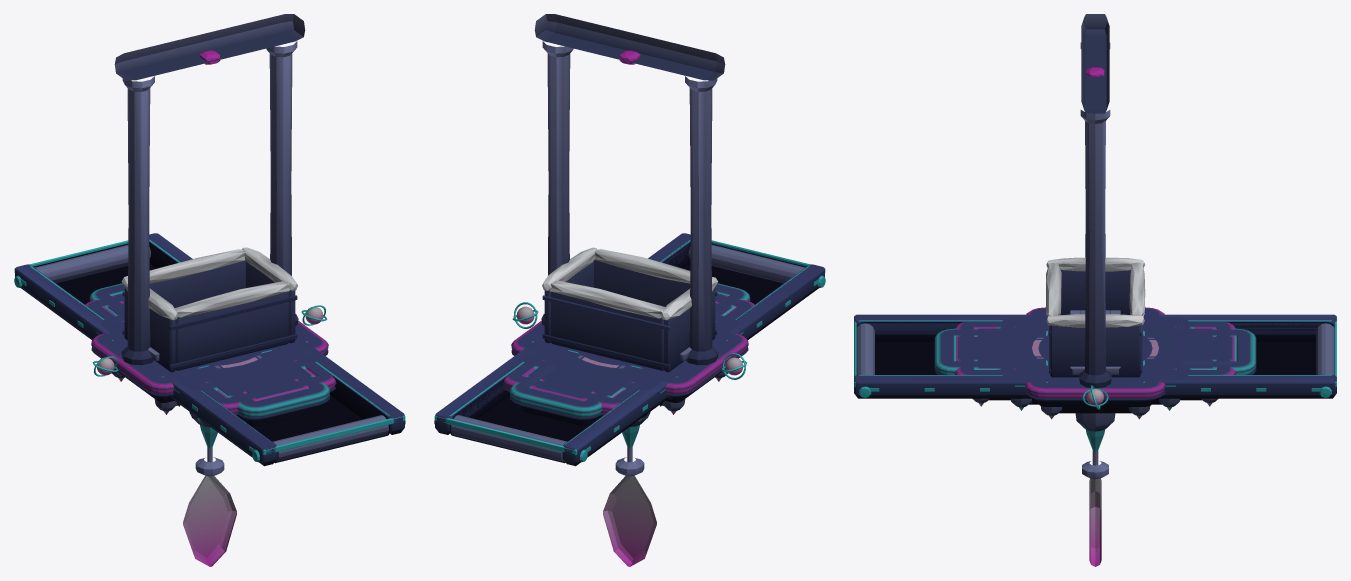
File: core-1-CGb0tZeR.glb
3 views of the same model, side by side, from view 1: azimuth 30°, elevation 25°; view 2: azimuth 150°, elevation 25°; view 3: azimuth 270°, elevation 25° (orthographic). The views are drawn at different scales.
Visible parts, largest first — view 1: pressFrame_6x6x2x7#0, belt_8x1.5x24x0#0, hopper_5.5x3#0, block_5x2x16#0, blade_3x12x1#0, disc_10x1.5#0, block_10x2x7#0, block_7x2x14_ice#0, block_8x2x10#0, balls_13x1.4#0; view 2: pressFrame_6x6x2x7#0, belt_8x1.5x24x0#0, hopper_5.5x3#0, block_5x2x16#0, blade_3x12x1#0, disc_10x1.5#0, block_10x2x7#0, block_7x2x14_ice#0, balls_13x1.4#0, block_8x2x10#0; view 3: belt_8x1.5x24x0#0, hopper_5.5x3#0, pressFrame_6x6x2x7#0, disc_10x1.5#0, block_5x2x16#0, block_10x2x7#0, block_7x2x14_ice#0, blade_3x12x1#0, block_8x2x10#0.
Boxes of the visible parts, x1,y1,x2,y2 form: pressFrame_6x6x2x7#0: (114, 14, 305, 365); belt_8x1.5x24x0#0: (14, 233, 405, 466); hopper_5.5x3#0: (121, 247, 297, 372); block_5x2x16#0: (89, 283, 330, 425); blade_3x12x1#0: (183, 446, 236, 566); disc_10x1.5#0: (113, 321, 306, 426); block_10x2x7#0: (91, 321, 328, 414); block_7x2x14_ice#0: (85, 295, 336, 417); block_8x2x10#0: (96, 315, 318, 421); balls_13x1.4#0: (92, 305, 327, 376); pressFrame_6x6x2x7#0: (534, 14, 725, 365); belt_8x1.5x24x0#0: (434, 233, 825, 466); hopper_5.5x3#0: (542, 247, 717, 372); block_5x2x16#0: (509, 283, 750, 425); blade_3x12x1#0: (603, 446, 656, 566); disc_10x1.5#0: (533, 321, 726, 426); block_10x2x7#0: (511, 321, 748, 414); block_7x2x14_ice#0: (503, 295, 754, 417); balls_13x1.4#0: (512, 302, 747, 379); block_8x2x10#0: (521, 315, 743, 421); belt_8x1.5x24x0#0: (854, 314, 1336, 398); hopper_5.5x3#0: (1046, 257, 1145, 377); pressFrame_6x6x2x7#0: (1079, 14, 1111, 388); disc_10x1.5#0: (1001, 315, 1189, 431); block_5x2x16#0: (934, 328, 1256, 374); block_10x2x7#0: (1025, 307, 1165, 419); block_7x2x14_ice#0: (954, 321, 1236, 406); blade_3x12x1#0: (1082, 450, 1108, 566); block_8x2x10#0: (996, 317, 1194, 410).
Size of the model in its own units: 12.9 by 28.1 by 24.
